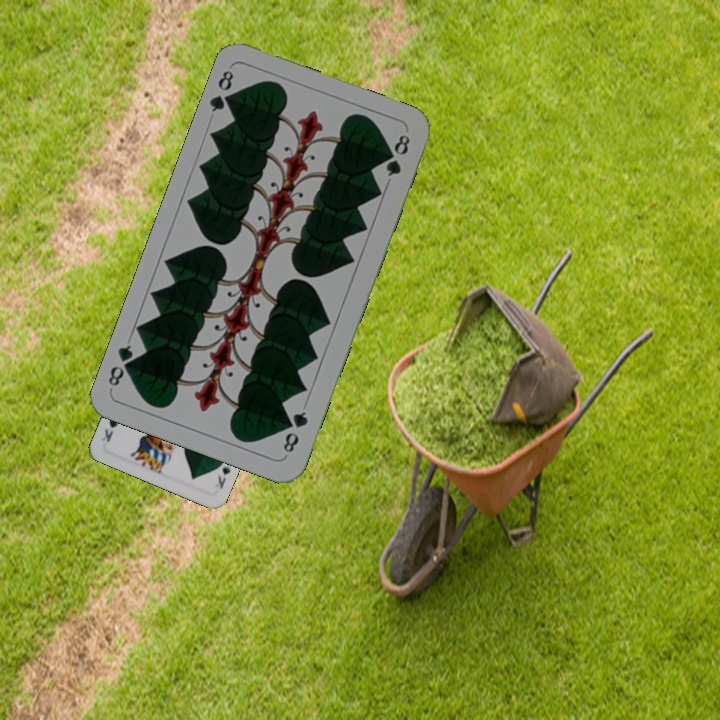G8: (206, 66, 239, 115), (279, 407, 311, 456)
GK: (213, 459, 233, 491)
